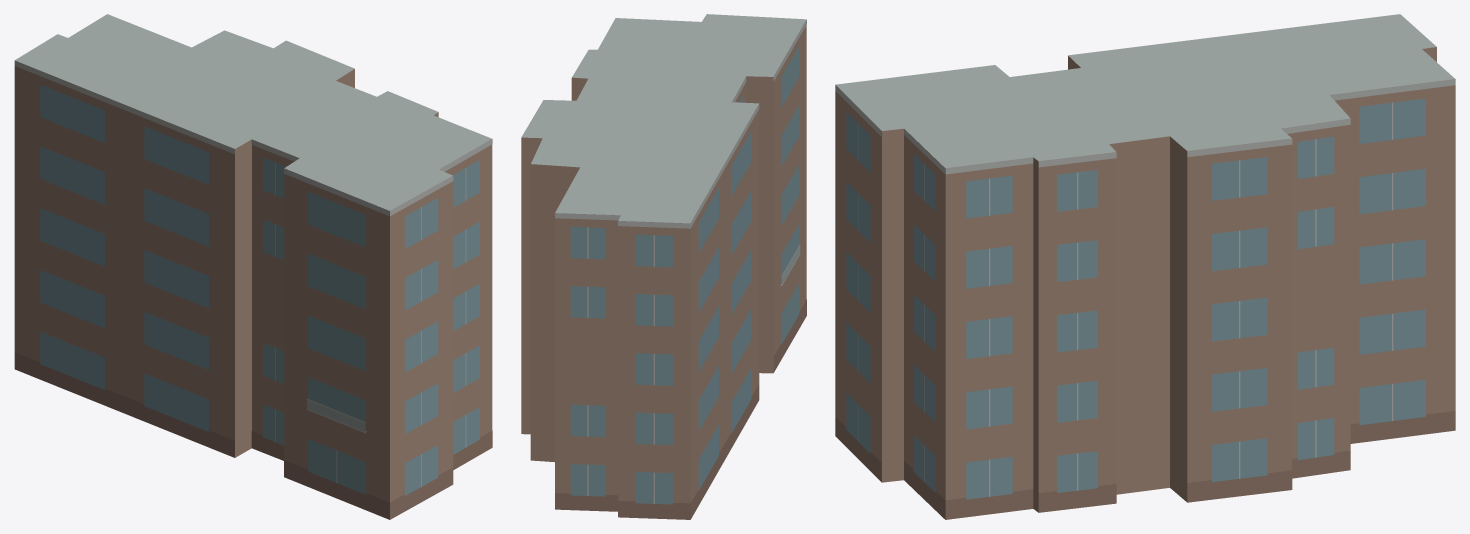
The model's file is survey-upis-32781180.glb.
The picture shows the model from 3 angles, left to right: view 1: azimuth 30°, elevation 25°; view 2: azimuth 150°, elevation 25°; view 3: azimuth 270°, elevation 25°; orthographic projection. The views are drawn at different scales.
Visible parts, largest first — view 1: survey-upis-32781180.tmp; view 2: survey-upis-32781180.tmp; view 3: survey-upis-32781180.tmp.
Part boxes in pixels (left/top/right/bottom): survey-upis-32781180.tmp: left=14, top=14, right=492, bottom=519; survey-upis-32781180.tmp: left=521, top=14, right=806, bottom=519; survey-upis-32781180.tmp: left=835, top=14, right=1455, bottom=519.
Size of the model in its own units: 13.1 by 13.9 by 22.23.
